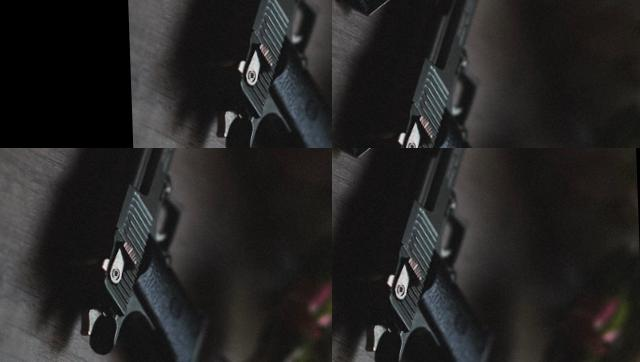handgun: (332, 148, 510, 362), (0, 148, 332, 222), (484, 0, 558, 71), (271, 0, 332, 34)
